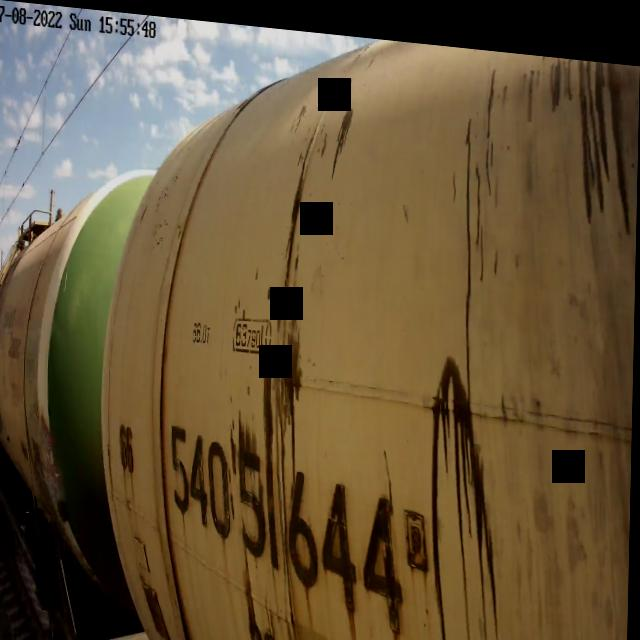tank: (93, 8, 640, 640), (0, 141, 153, 640)
